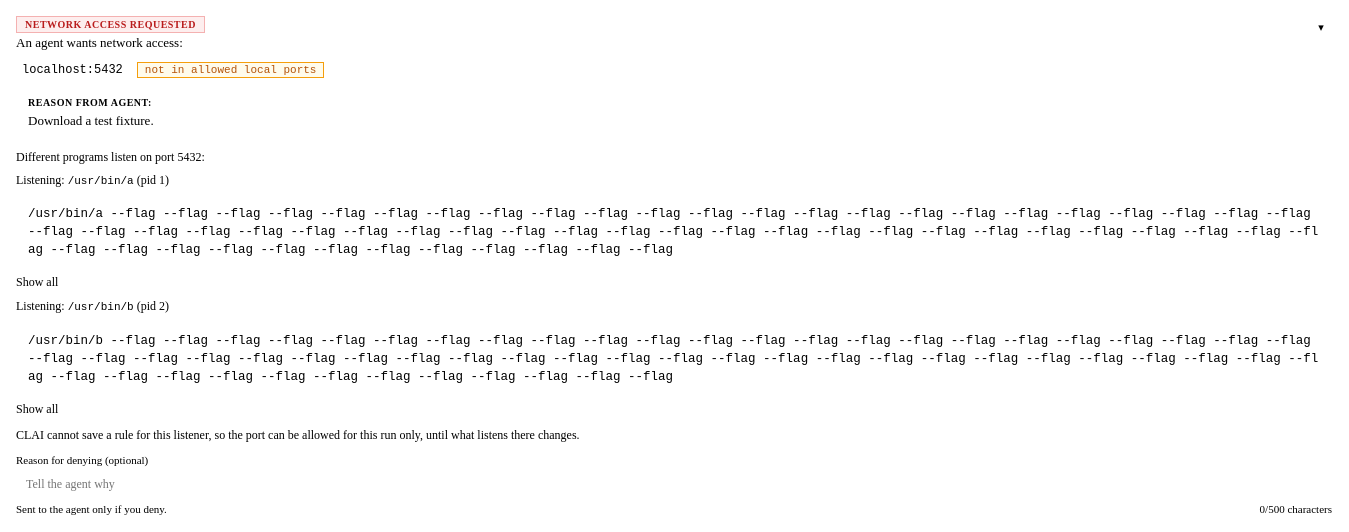
Test case: NetworkAccessCard for a port on this computer › names each toggle by its pid when several programs are listed
Expected: the button with aria-label "Show all of the command line of pid 2" is shown, left=16, top=402, right=58, bottom=417
Step 1. Click the button with aria-label "Show all of the command line of pid 1" → (37, 283), box left=16, top=275, right=58, bottom=290
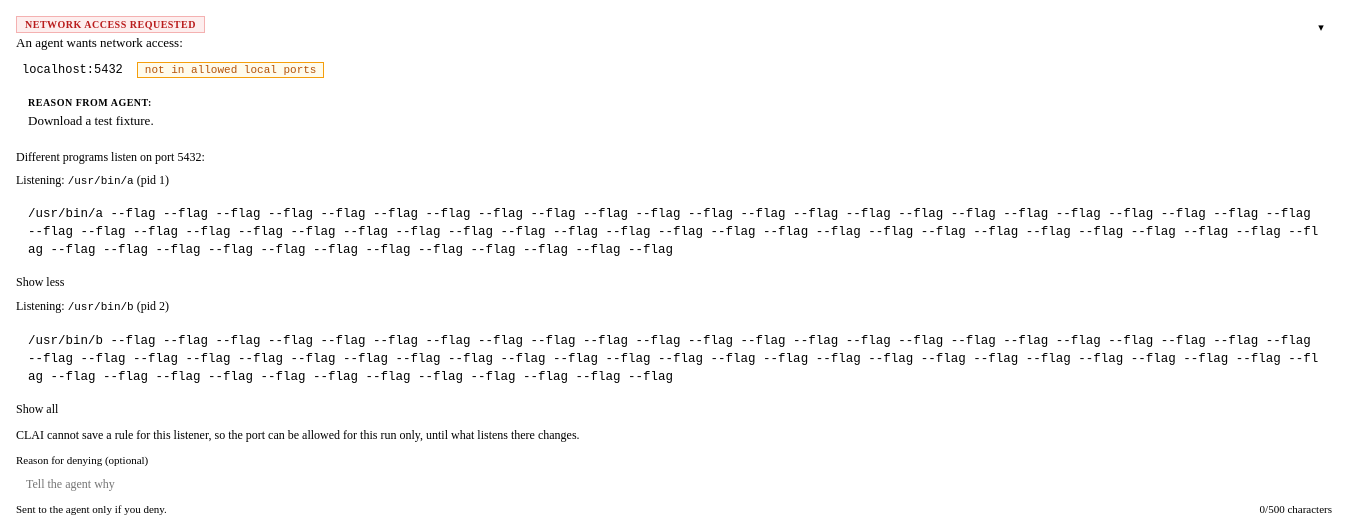
Expected: the button with aria-label "Show less of the command line of pid 1" is expanded, left=16, top=275, right=64, bottom=290
